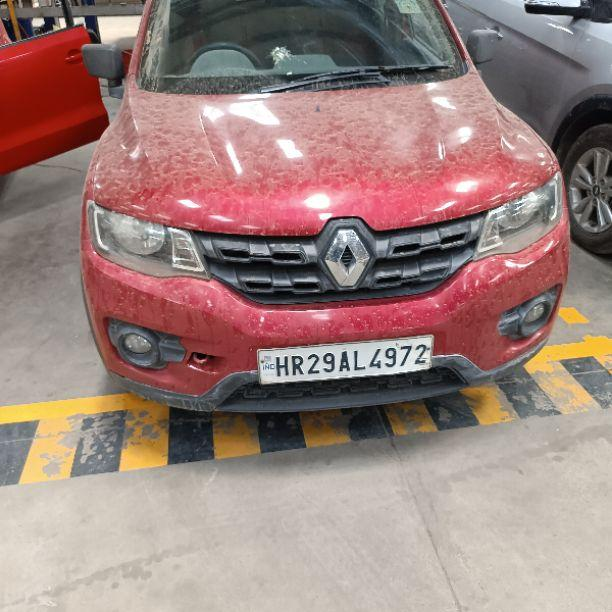license_plate: (255, 333, 434, 386)
